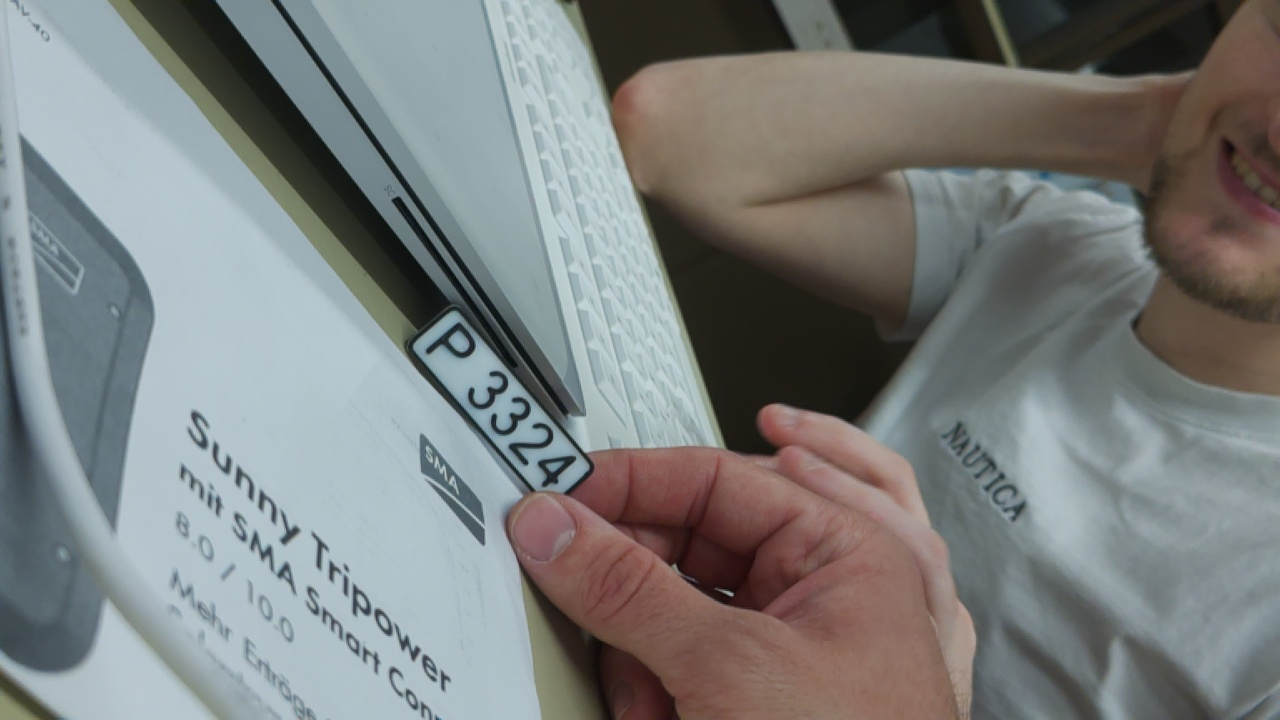license_plate: (396, 284, 600, 508)
